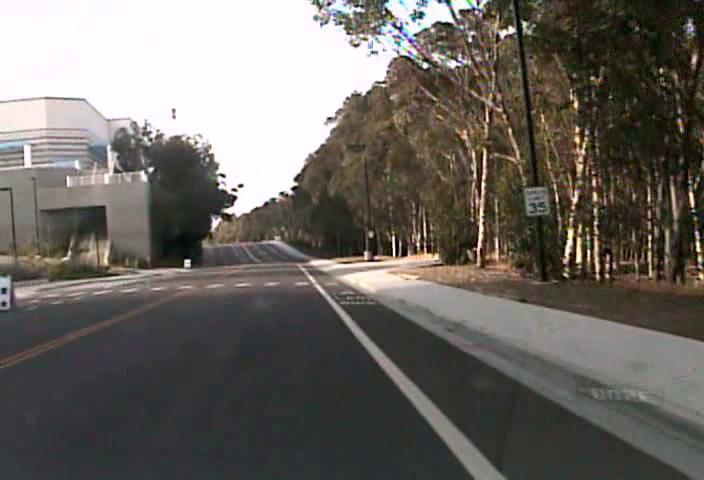speedLimit35: (523, 185, 551, 217)
